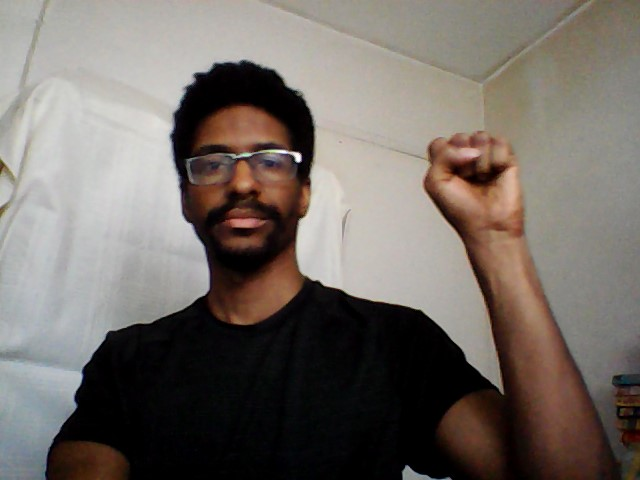s: (421, 127, 529, 240)
